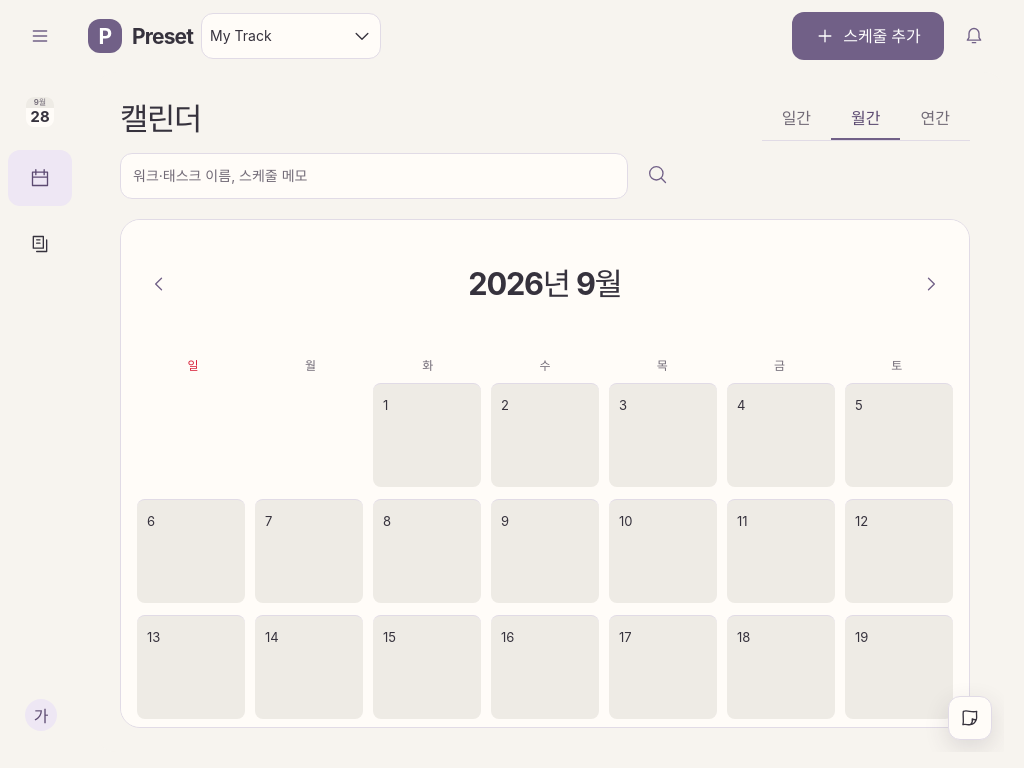
app settings › clears navigation selection and returns to the same /calendar destination
This screenshot has width=1024, height=768.
Click the button named "가상 계정": (40, 715) [8,690,72,740]
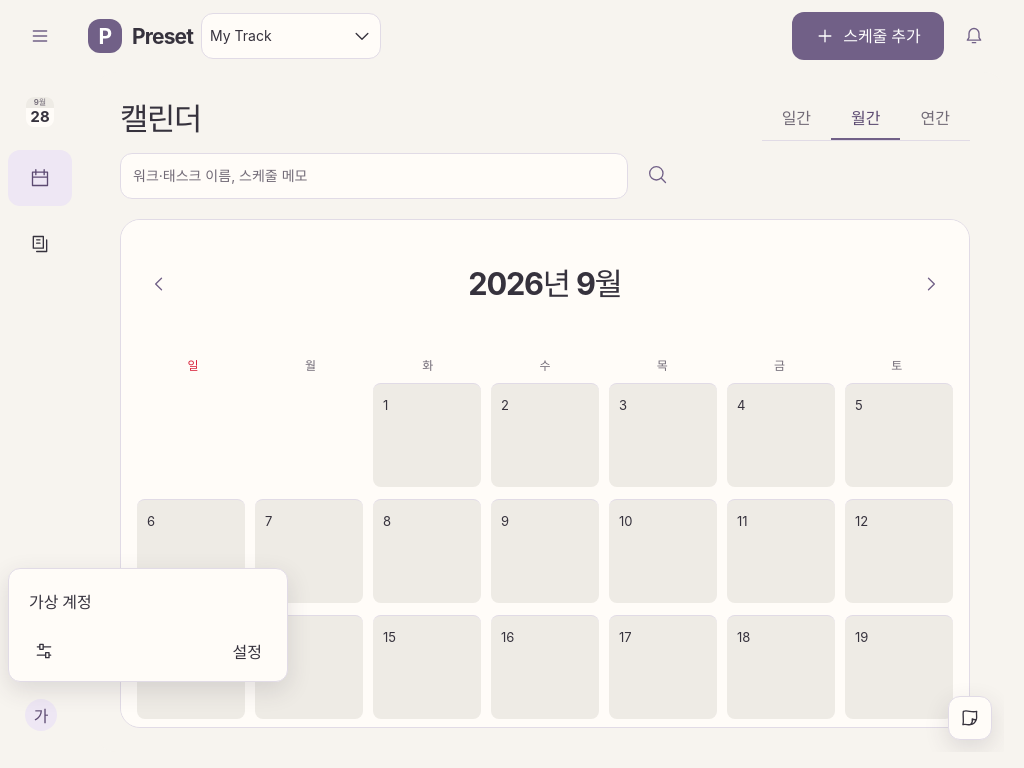
Click the button "설정": (44, 651) [17,629,279,673]
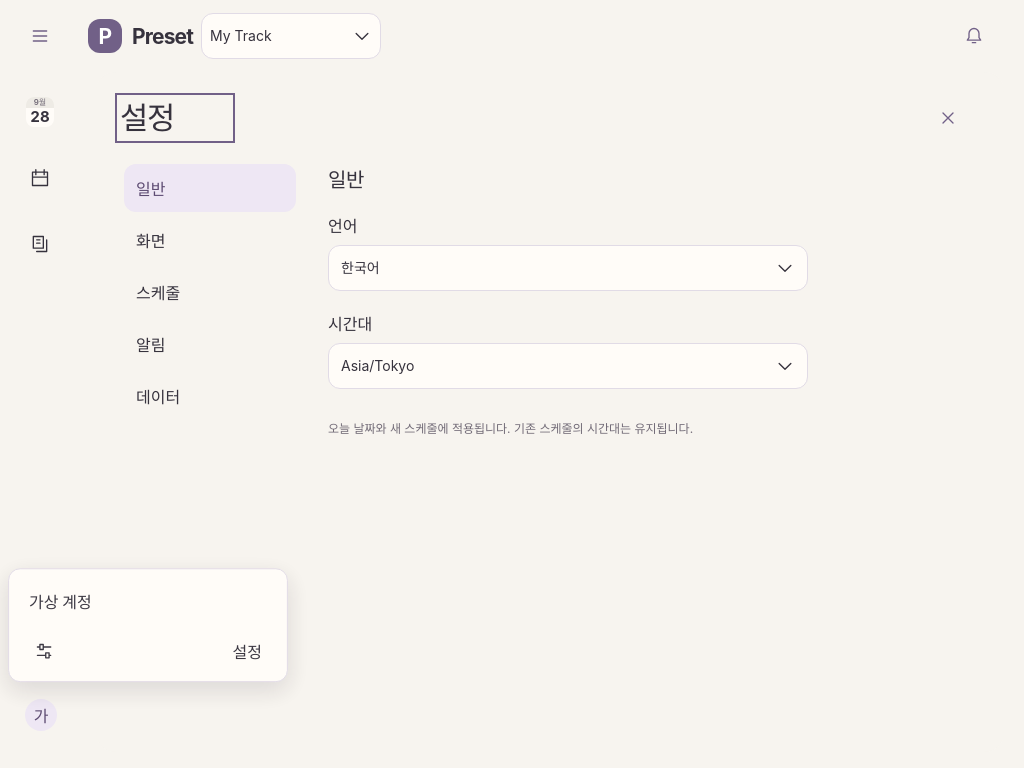
Click the link named "전체 캘린더": (40, 178) [26,168,54,188]
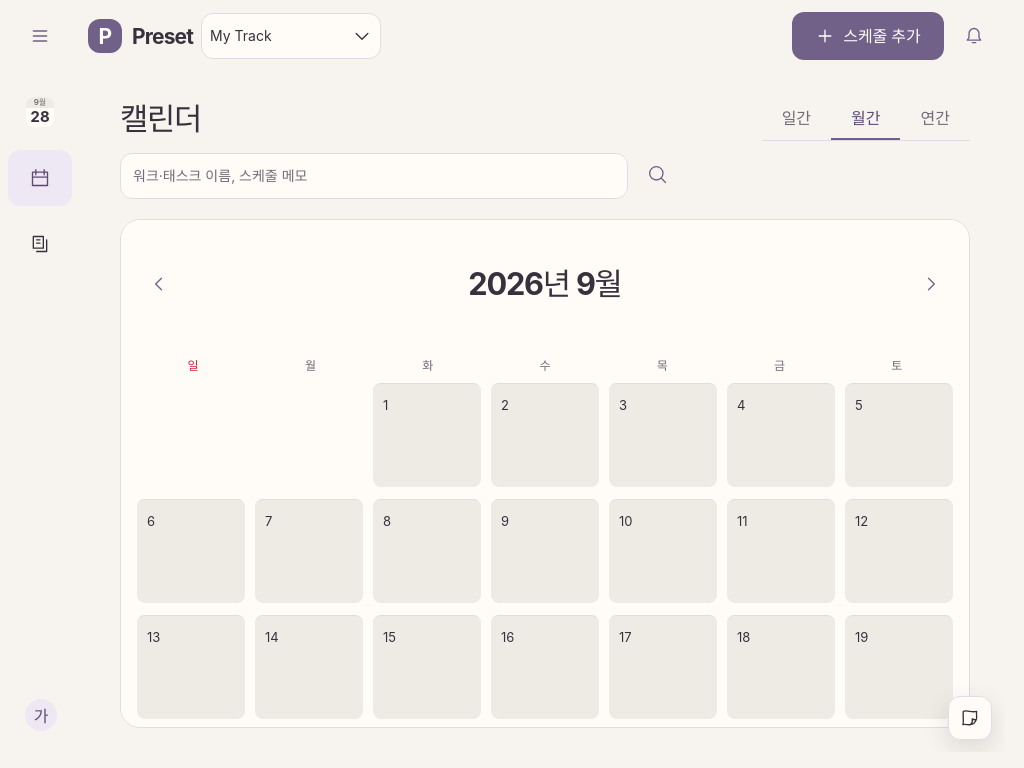
Now the button "설정" is gone
Now the element that starts with "캘린더" is shown
